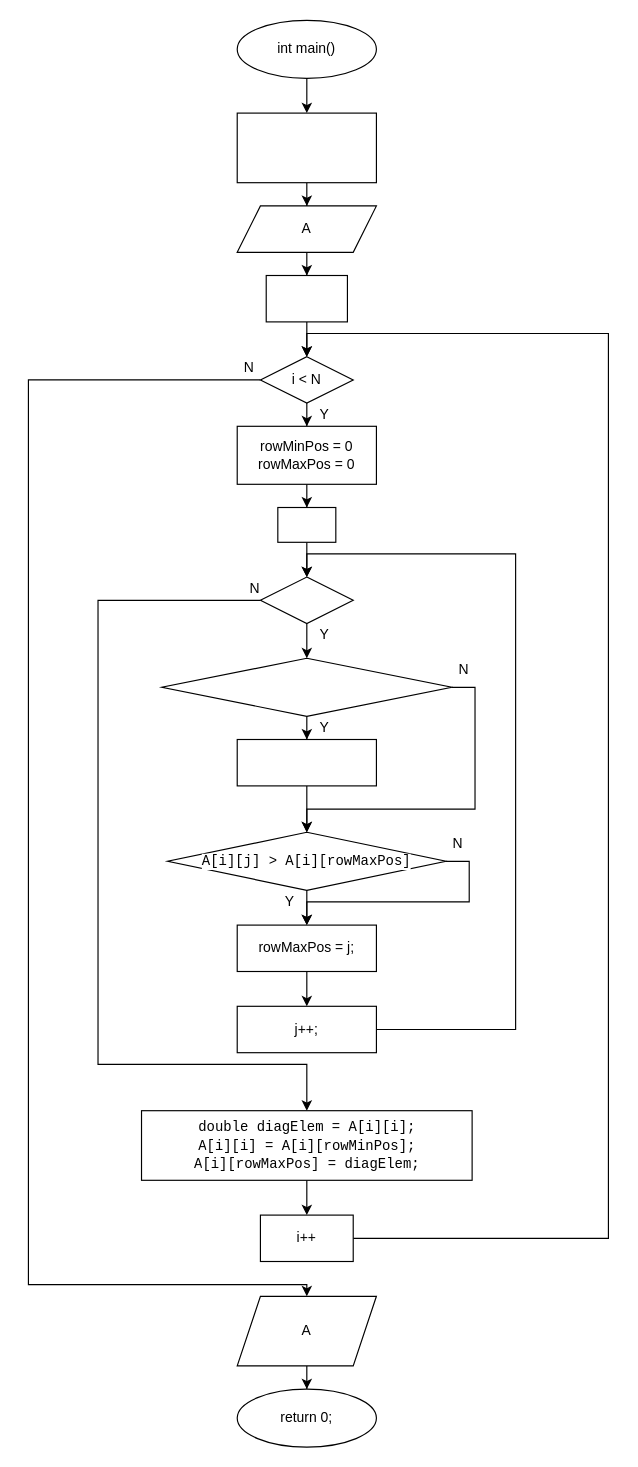
This 638x1467 diagram has some shape labels left out. Here are the shapes that lost their labels. From the top down, the centre of each, then its label:
point (306, 147): const N = 5; A[N][N];
point (306, 298): i = 0
point (306, 524): j = 1
point (306, 600): j < N
point (306, 686): A[i][j] < A[i][rowMinPos]
point (306, 762): rowMinPos = j;
